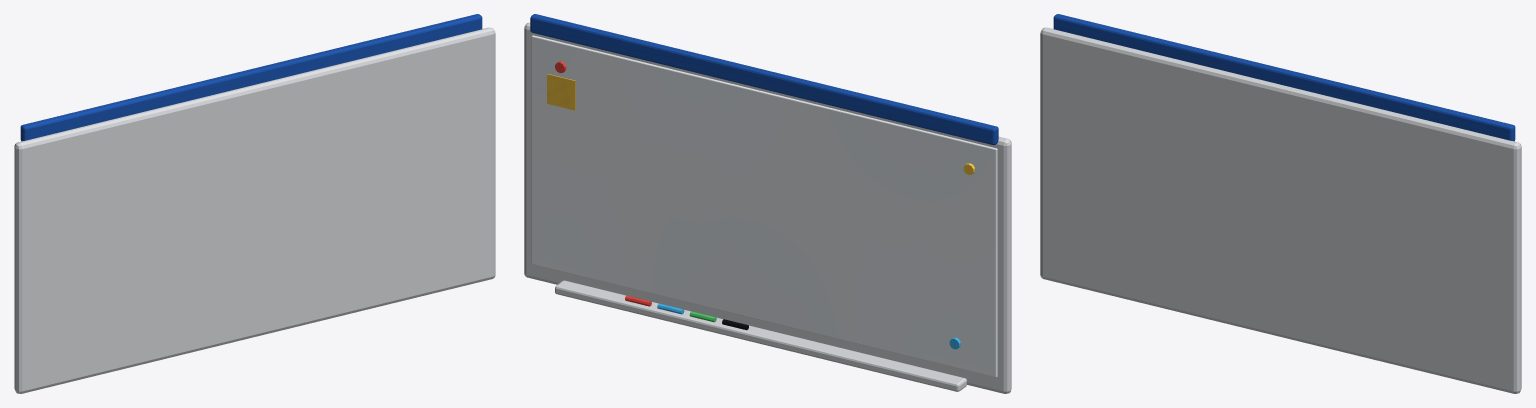
The model's file is DayBoard.glb.
The picture shows the model from 3 angles, left to right: view 1: azimuth 30°, elevation 25°; view 2: azimuth 150°, elevation 25°; view 3: azimuth 330°, elevation 25°; orthographic projection.
Parts seen in each view (by area): view 1: Board; view 2: Board; view 3: Board.
Part boxes in pixels (left/top/right/bottom): Board: left=14, top=14, right=495, bottom=393; Board: left=524, top=14, right=1011, bottom=393; Board: left=1040, top=14, right=1521, bottom=393.
Size of the model in its own units: 2.4 by 1.26 by 0.125.
Materials: 2 (1 with a texture image).
